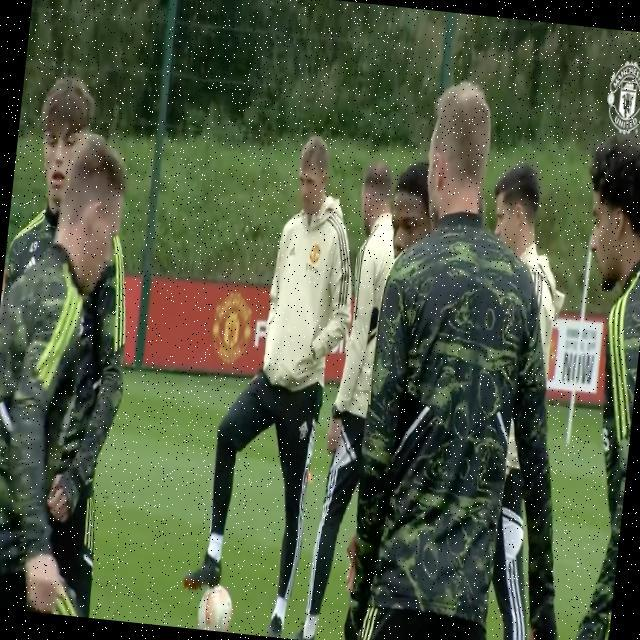Adidas: (299, 415, 309, 434), (287, 241, 297, 259)
